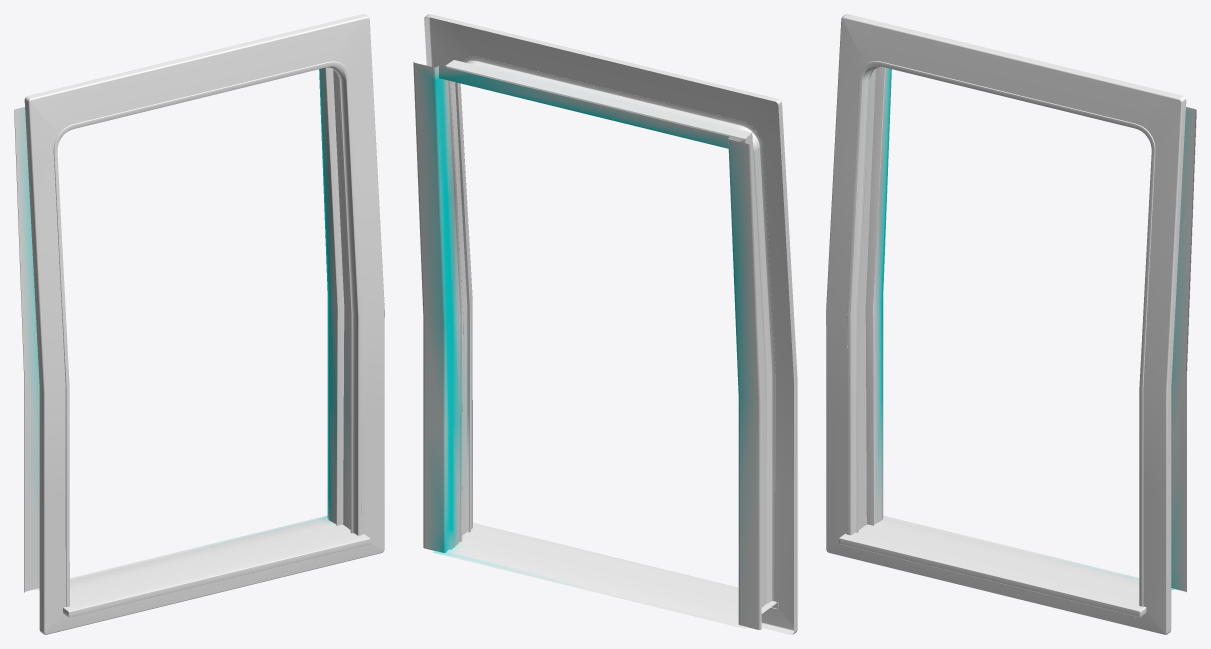
The model's file is SM_wall_doorway_01.fbx.
The picture shows the model from 3 angles, left to right: view 1: azimuth 30°, elevation 25°; view 2: azimuth 150°, elevation 25°; view 3: azimuth 330°, elevation 25°; orthographic projection. The views are drawn at different scales.
Parts seen in each view (by area): view 1: SM_wall_doorway_01_LOD0; view 2: SM_wall_doorway_01_LOD0; view 3: SM_wall_doorway_01_LOD0.
Part boxes in pixels (x1,y1,x2,y2): SM_wall_doorway_01_LOD0: (14,14,384,634); SM_wall_doorway_01_LOD0: (413,14,797,634); SM_wall_doorway_01_LOD0: (826,14,1196,634).
Size of the model in its own units: 170 by 250 by 38.21.
